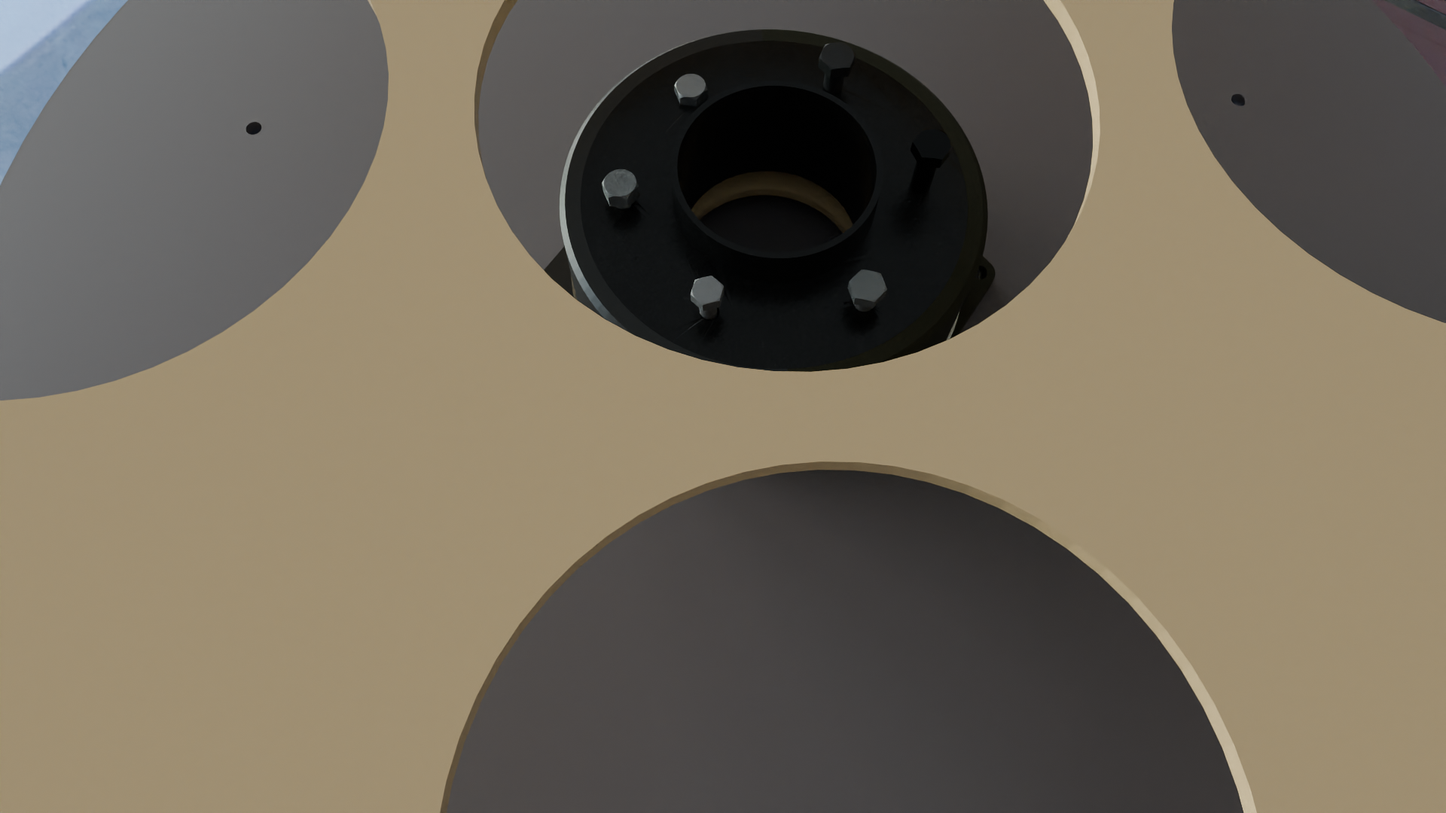bolt: (913, 129, 953, 160), (850, 269, 887, 302), (602, 169, 639, 199), (819, 42, 856, 69), (691, 276, 724, 306), (674, 74, 708, 101)
